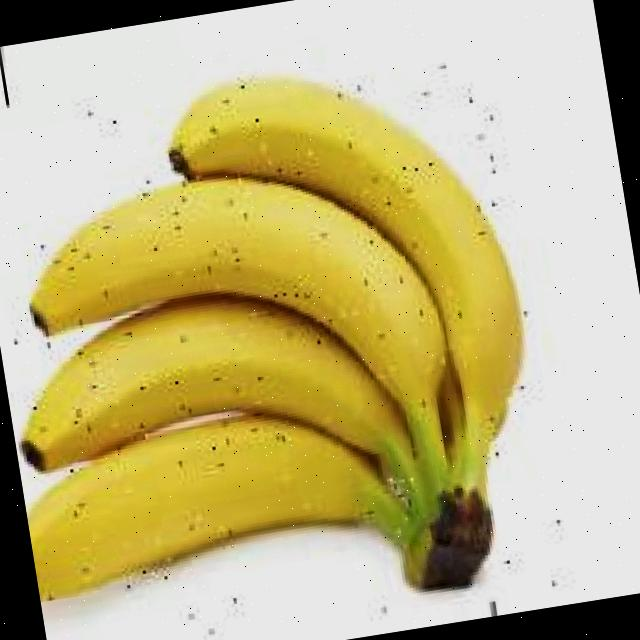banana: (0, 33, 603, 640)
